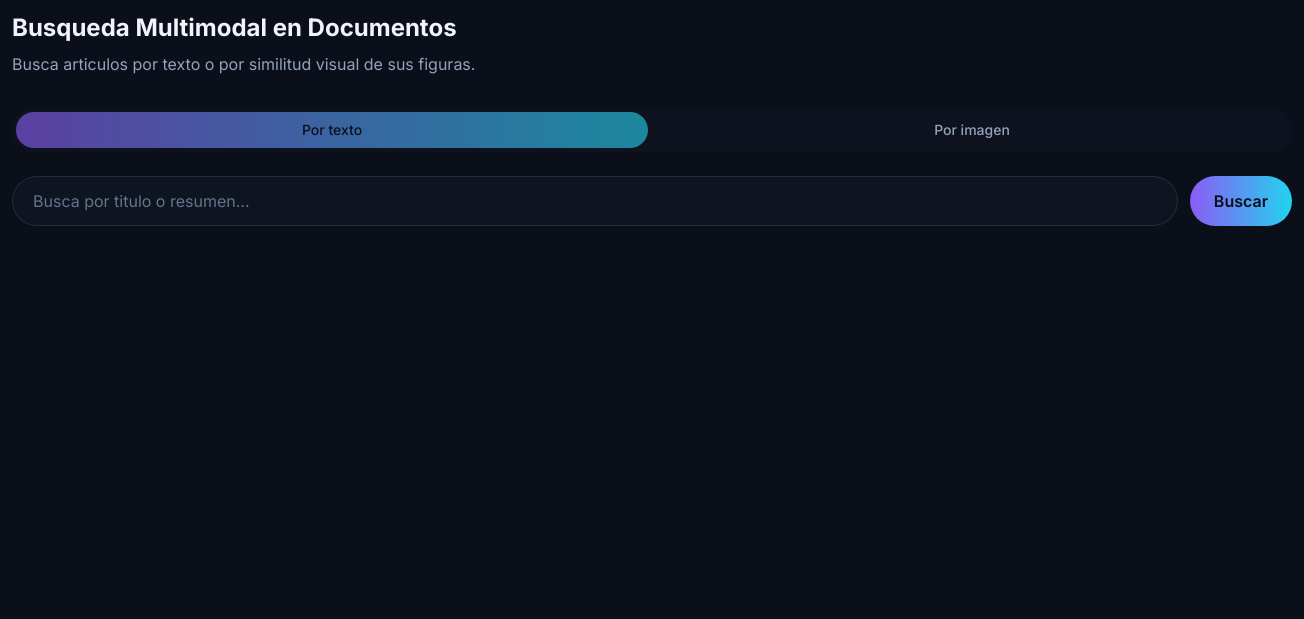
Test: DocumentSearchPage › runs a text search and renders result cards
Type "redes" into the field with placeholder "Busca por titulo o resumen..." at (595,201), box left=12, top=176, right=1178, bottom=226
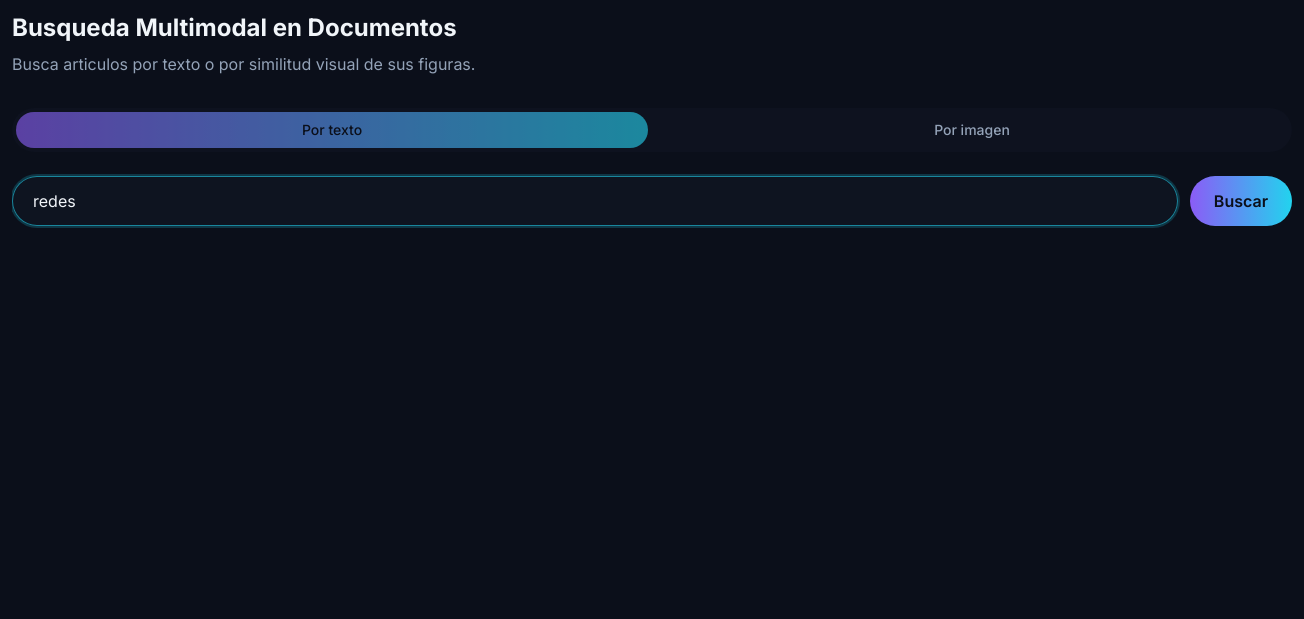
Click the button "Buscar" at (1241,201), box left=1190, top=176, right=1292, bottom=226
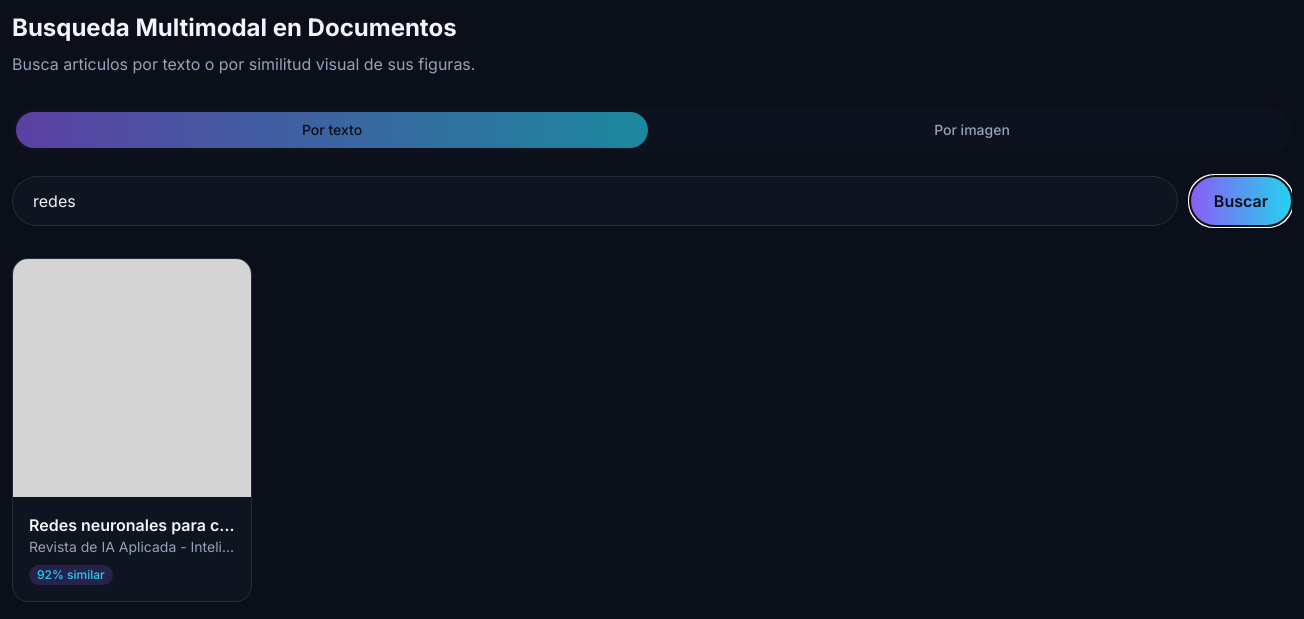
Expected: the text "Redes neuronales para clasificacion" is shown, left=29, top=513, right=235, bottom=537
